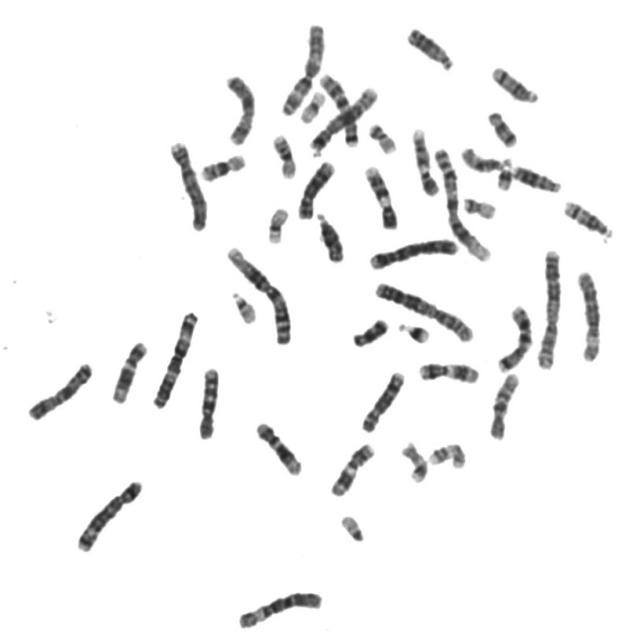A1: (221, 240, 295, 346), (431, 142, 494, 264)
A2: (369, 274, 477, 344), (532, 242, 564, 371)
A3: (148, 304, 202, 410), (276, 15, 328, 117)
B4: (165, 134, 210, 232), (364, 231, 460, 271)
B5: (71, 473, 145, 554), (306, 80, 381, 156)
C10: (484, 364, 522, 442), (193, 360, 222, 441)
C11: (326, 436, 378, 498), (414, 355, 482, 385)
C12: (250, 415, 305, 477), (106, 334, 150, 405)
C6: (232, 584, 325, 631), (572, 263, 605, 363)
C7: (314, 67, 362, 148), (492, 298, 536, 374)
C8: (356, 364, 408, 434), (293, 154, 338, 221)
C9: (359, 158, 401, 231), (407, 120, 442, 198)
D13: (402, 19, 458, 72), (507, 157, 564, 194)
D14: (559, 193, 617, 241), (486, 59, 542, 104)
D15: (457, 140, 512, 173), (315, 212, 348, 267)
E16: (194, 146, 248, 184), (268, 127, 300, 180)
E17: (397, 435, 430, 484), (423, 436, 469, 470)
E18: (348, 310, 392, 349), (482, 104, 521, 148)
F19: (294, 84, 329, 124), (262, 200, 292, 245)
F20: (363, 116, 399, 155), (460, 196, 502, 219)
G21: (394, 314, 434, 346), (493, 153, 516, 192)
G22: (226, 284, 259, 326), (335, 507, 368, 544)
X: (22, 354, 95, 422), (219, 68, 258, 146)
